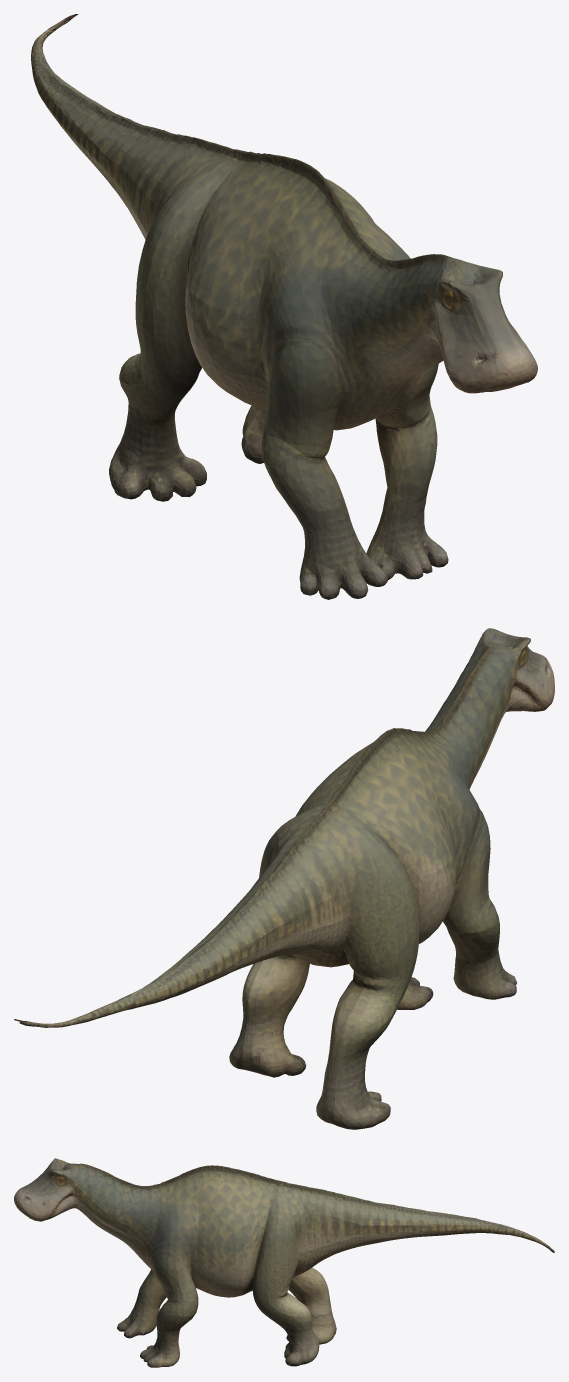
3 views of the same model, one above another, from view 1: azimuth 30°, elevation 25°; view 2: azimuth 150°, elevation 25°; view 3: azimuth 270°, elevation 25° (orthographic). The views are drawn at different scales.
Parts seen in each view (by area): view 1: world; view 2: world; view 3: world.
Boxes of the visible parts, x1=… form: world: x1=31, y1=14, x2=537, y2=599; world: x1=14, y1=628, x2=554, y2=1129; world: x1=14, y1=1158, x2=554, y2=1367.
Size of the model in its own units: 0.2249 by 0.3922 by 1.
Materials: 1 (1 with a texture image).
